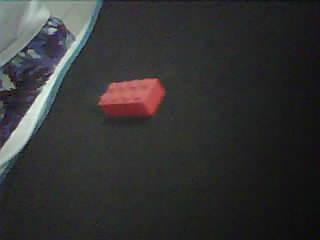lego: (96, 77, 166, 117)
